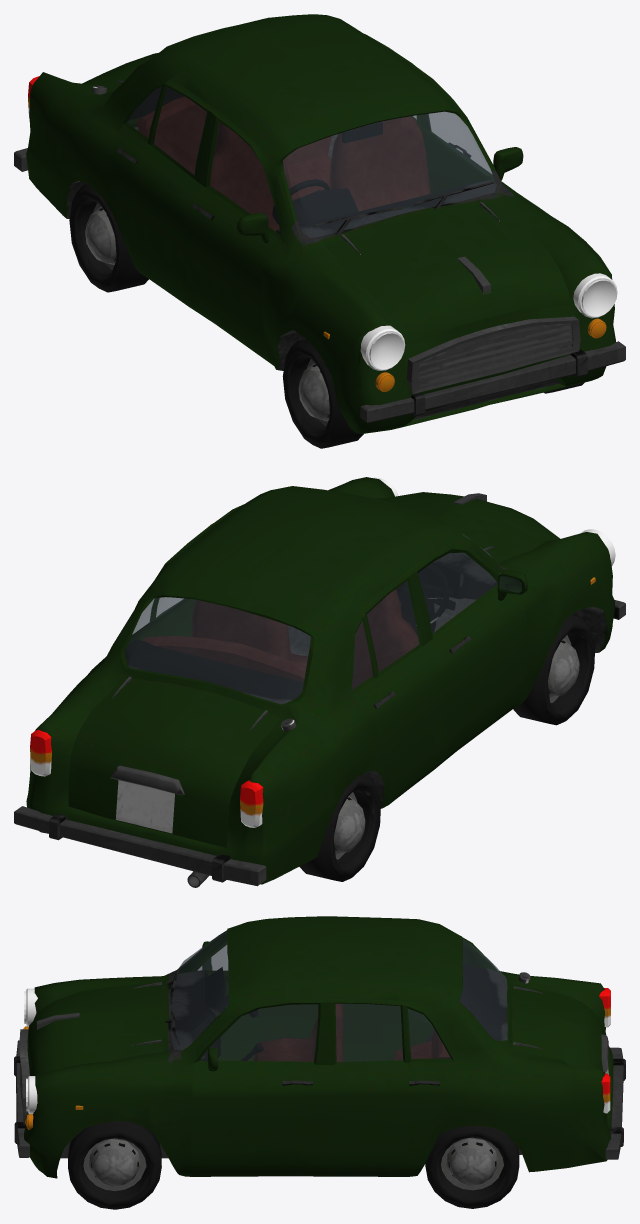
Rendered from ambassador.glb.
3 renders of one model, top to bottom at view 1: azimuth 30°, elevation 25°; view 2: azimuth 150°, elevation 25°; view 3: azimuth 270°, elevation 25°, orthographic. The views are drawn at different scales.
Visible parts, largest first — view 1: ambassador, glass, wheel_rr, wheel_fr; view 2: ambassador, glass, wheel_fr, wheel_rr; view 3: ambassador, glass, wheel_rl, wheel_fl.
Part boxes in pixels (<box>): ambassador: <box>14,14,625,433</box>; glass: <box>127,87,496,237</box>; wheel_rr: <box>69,189,148,292</box>; wheel_fr: <box>282,345,363,448</box>; ambassador: <box>14,477,625,887</box>; glass: <box>125,533,521,703</box>; wheel_fr: <box>513,623,595,725</box>; wheel_rr: <box>299,779,380,881</box>; ambassador: <box>14,916,625,1186</box>; glass: <box>169,931,507,1061</box>; wheel_rl: <box>425,1130,519,1208</box>; wheel_fl: <box>67,1131,161,1209</box>.
Size of the model in its own units: 1.97 by 1.68 by 4.32.
2 materials, 1 textured.
